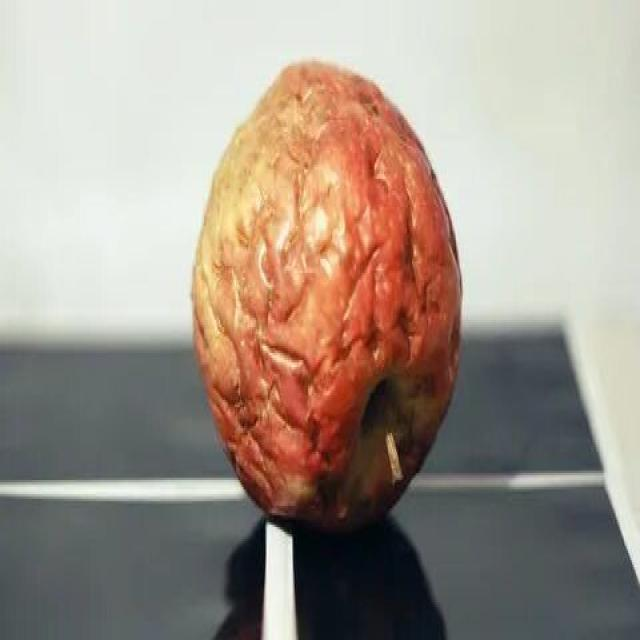Rotten Apple: (196, 62, 464, 533)
